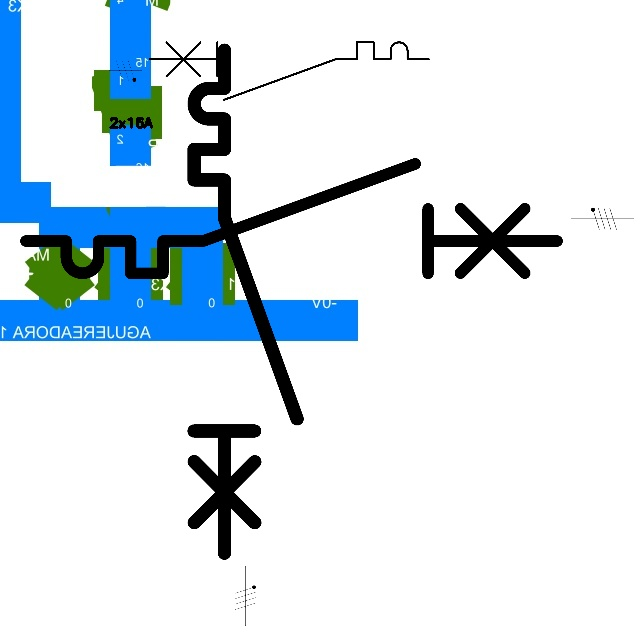interruptor_termomagnetico: (12, 150, 570, 287), (181, 37, 310, 566), (142, 35, 436, 107)
